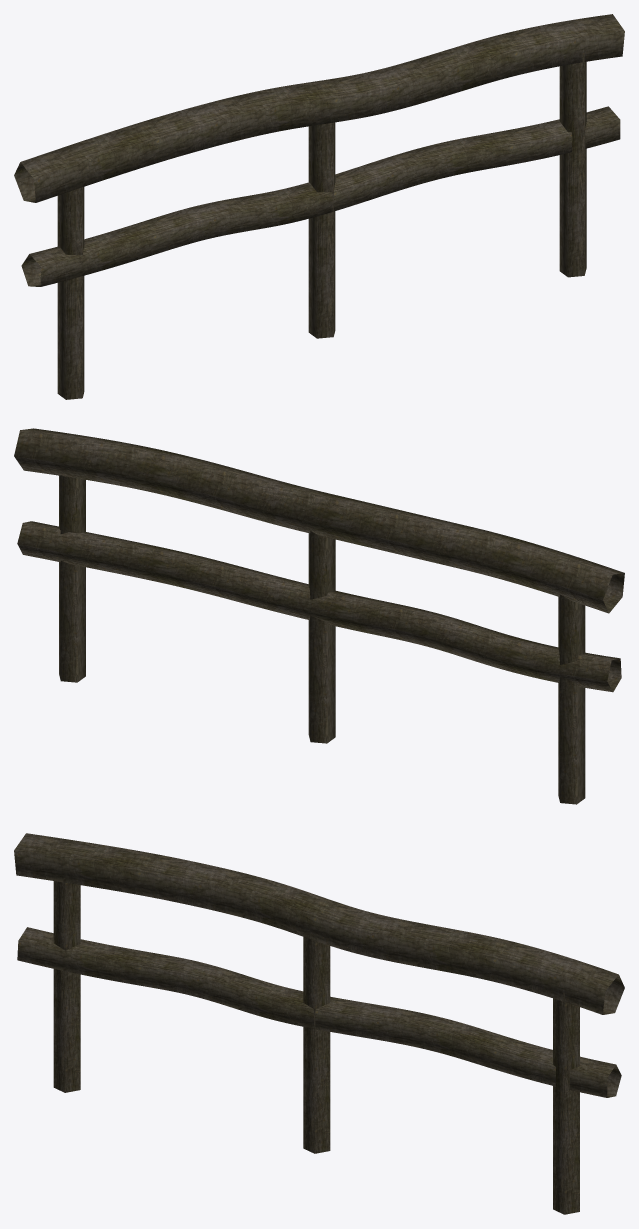
The model's file is Mini-Fence2.fbx.
3 renders of one model, top to bottom at view 1: azimuth 30°, elevation 25°; view 2: azimuth 150°, elevation 25°; view 3: azimuth 330°, elevation 25°, orthographic.
Parts seen in each view (by area): view 1: Mini-Fence2; view 2: Mini-Fence2; view 3: Mini-Fence2.
Boxes of the visible parts, bbox=[...] form: Mini-Fence2: bbox=[14, 14, 624, 399]; Mini-Fence2: bbox=[14, 428, 624, 804]; Mini-Fence2: bbox=[14, 833, 624, 1214].
Bounding box in the file's own units: 2.37 × 0.9556 × 0.1755.
